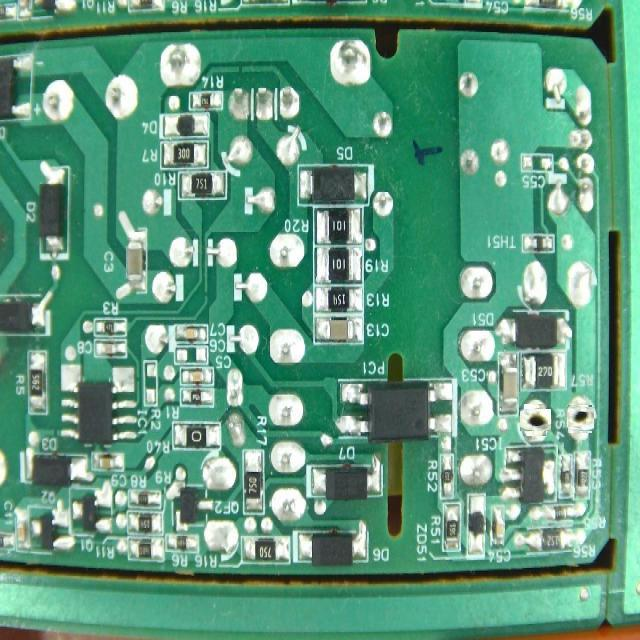damged: (521, 406, 549, 434), (567, 407, 593, 432)
